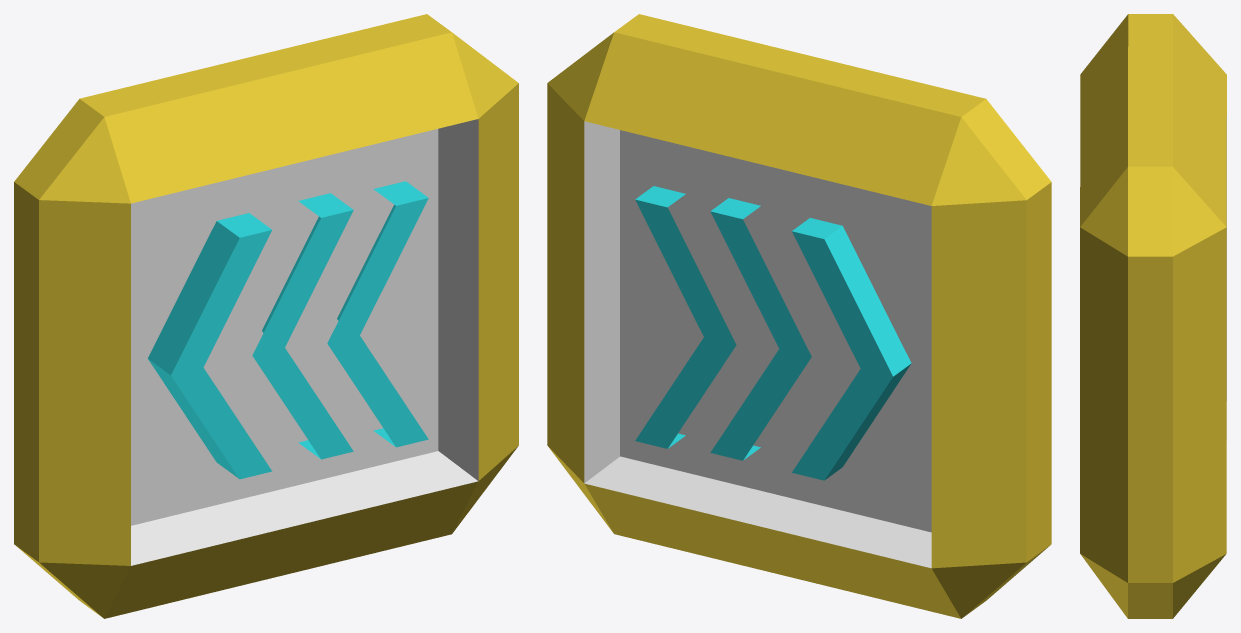
The model's file is aitem speedup.fbx.
3 views of the same model, side by side, from view 1: azimuth 30°, elevation 25°; view 2: azimuth 150°, elevation 25°; view 3: azimuth 270°, elevation 25° (orthographic). The views are drawn at different scales.
Parts seen in each view (by area): view 1: Cube; view 2: Cube; view 3: Cube.
Part boxes in pixels (x1,y1,x2,y2): Cube: (14, 14, 518, 618); Cube: (547, 14, 1051, 618); Cube: (1080, 14, 1226, 618).
Bounding box in the file's own units: 200 × 200 × 58.83.
